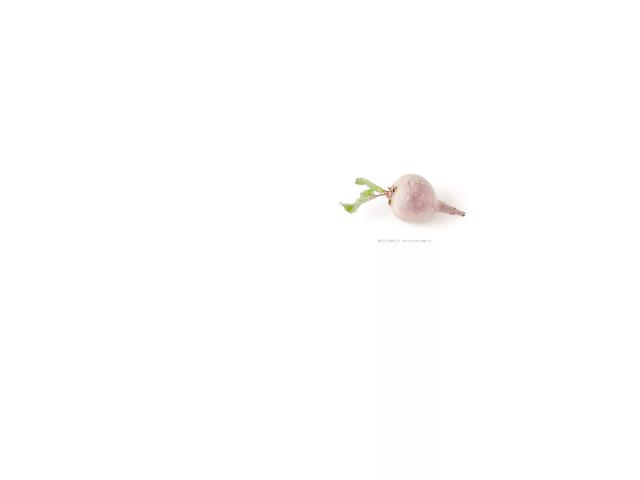beet: (338, 174, 463, 223)
